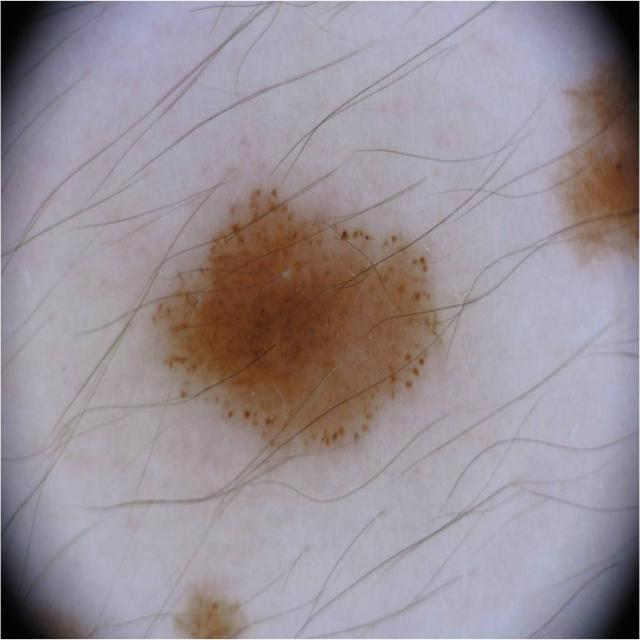Benign: (150, 182, 442, 460), (559, 64, 637, 257)
